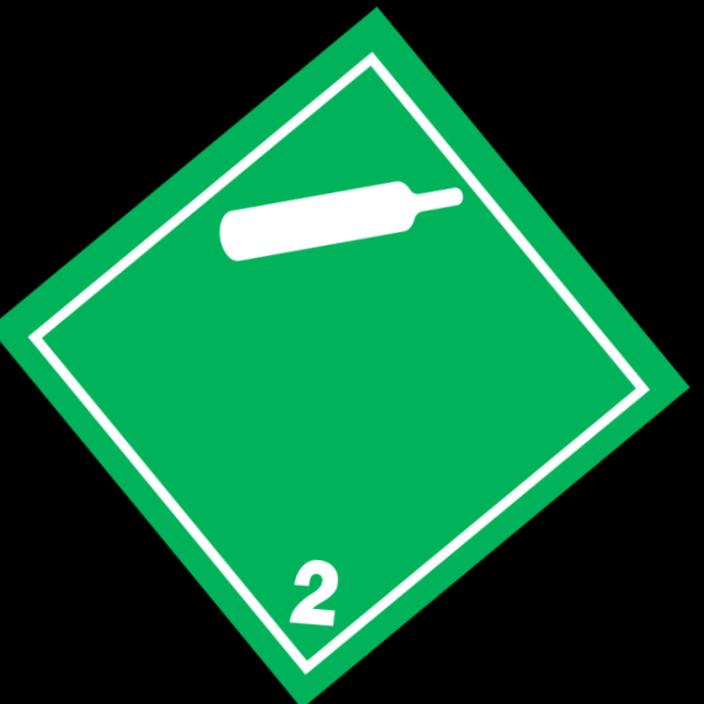building map: (0, 7, 689, 704)
